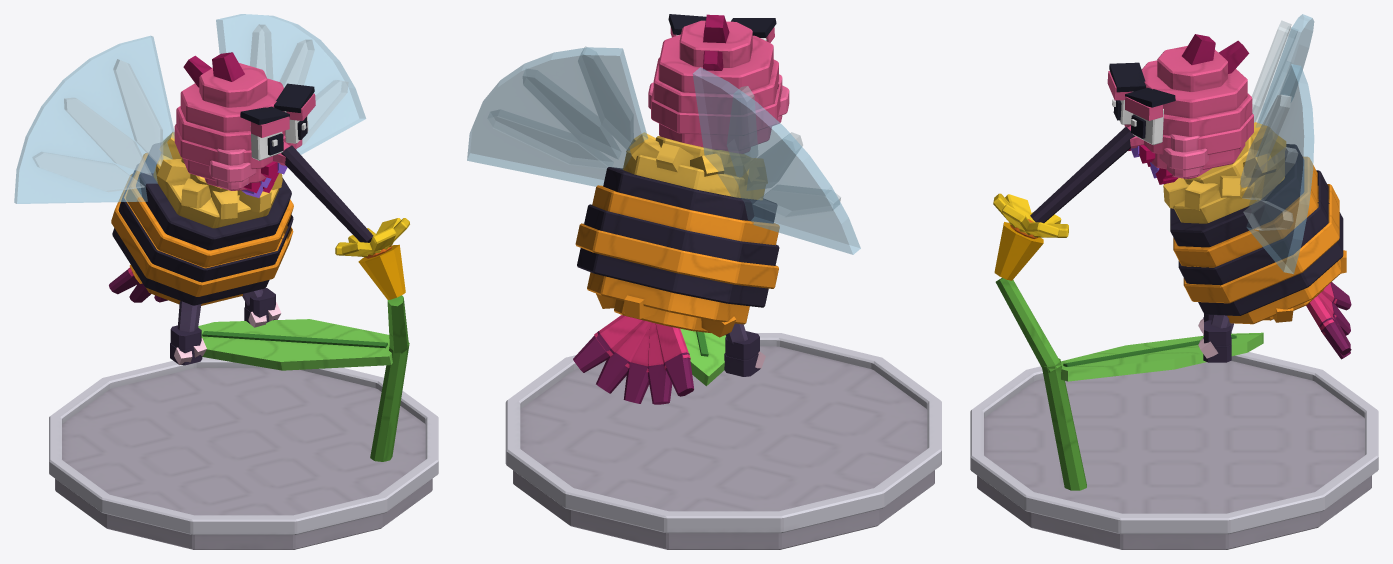
File: BeeHummingbird.fbx
3 renders of one model, left to right at view 1: azimuth 30°, elevation 25°; view 2: azimuth 150°, elevation 25°; view 3: azimuth 270°, elevation 25°, orthographic. The views are drawn at different scales.
Parts seen in each view (by area): view 1: Art_BeeHummingbird_Stand, Art_BeeHummingbird_Body, Art_BeeHummingbird_WingR, Art_BeeHummingbird_Head, Art_BeeHummingbird_Haze, Art_BeeHummingbird_WingL, Art_BeeHummingbird_Tail; view 2: Art_BeeHummingbird_Stand, Art_BeeHummingbird_Body, Art_BeeHummingbird_WingL, Art_BeeHummingbird_Head, Art_BeeHummingbird_WingR, Art_BeeHummingbird_Tail, Art_BeeHummingbird_Haze; view 3: Art_BeeHummingbird_Stand, Art_BeeHummingbird_Body, Art_BeeHummingbird_Head, Art_BeeHummingbird_Haze, Art_BeeHummingbird_WingL, Art_BeeHummingbird_WingR, Art_BeeHummingbird_Tail.
Boxes of the visible parts, x1,y1,x2,y2 form: Art_BeeHummingbird_Stand: (49,357,438,549); Art_BeeHummingbird_Body: (111,132,293,365); Art_BeeHummingbird_WingR: (14,35,174,203); Art_BeeHummingbird_Head: (174,52,373,242); Art_BeeHummingbird_Haze: (198,218,409,461); Art_BeeHummingbird_WingL: (216,14,365,154); Art_BeeHummingbird_Tail: (109,267,167,302); Art_BeeHummingbird_Stand: (505,333,941,549); Art_BeeHummingbird_Body: (575,132,779,376); Art_BeeHummingbird_WingL: (467,46,647,186); Art_BeeHummingbird_Head: (648,14,789,153); Art_BeeHummingbird_WingR: (692,67,860,254); Art_BeeHummingbird_Tail: (573,315,693,404); Art_BeeHummingbird_Haze: (680,328,725,386); Art_BeeHummingbird_Stand: (970,352,1378,549); Art_BeeHummingbird_Body: (1163,122,1346,362); Art_BeeHummingbird_Head: (1030,34,1253,223); Art_BeeHummingbird_Haze: (993,193,1263,490); Art_BeeHummingbird_WingL: (1240,64,1314,273); Art_BeeHummingbird_WingR: (1252,14,1314,127); Art_BeeHummingbird_Tail: (1306,282,1351,359).
Size of the model in its own units: 3.1 by 3.46 by 2.99.
